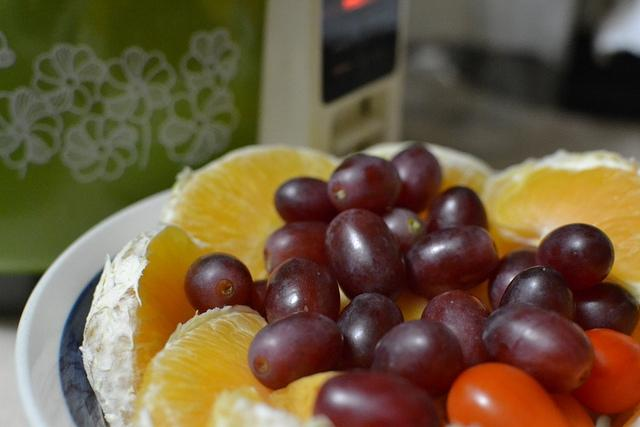grape: (482, 302, 594, 394), (326, 208, 408, 304), (248, 311, 344, 391), (367, 319, 464, 398), (312, 371, 448, 426), (405, 226, 500, 298), (421, 289, 494, 372), (536, 223, 616, 291), (336, 292, 404, 370), (265, 257, 341, 324), (327, 154, 402, 216), (500, 266, 578, 322), (184, 252, 252, 313), (263, 218, 332, 275), (572, 282, 640, 337), (426, 186, 492, 237), (392, 146, 442, 212), (272, 176, 340, 224), (488, 250, 536, 312), (381, 208, 428, 256), (246, 279, 268, 323)
orange: (81, 222, 203, 425), (480, 149, 640, 302), (162, 143, 338, 282), (132, 305, 275, 427), (268, 371, 350, 424), (417, 163, 491, 221), (395, 288, 429, 322)
tomato: (446, 362, 564, 426), (570, 328, 639, 414), (548, 392, 596, 427)
